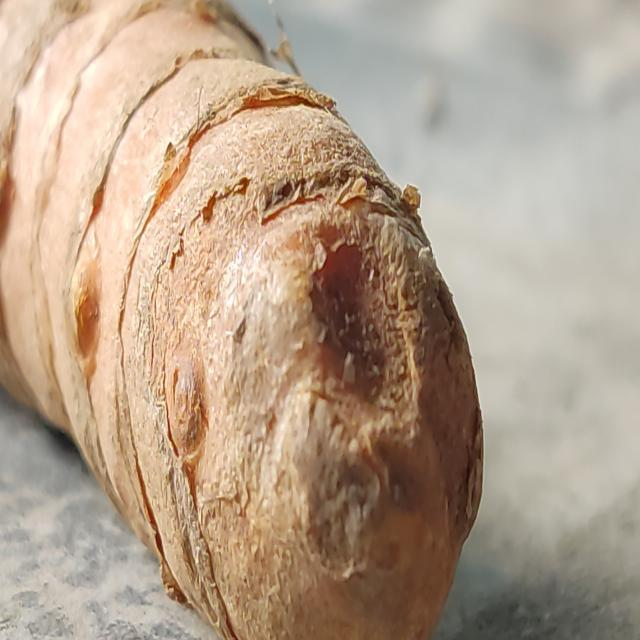ginger: (0, 0, 471, 637)
